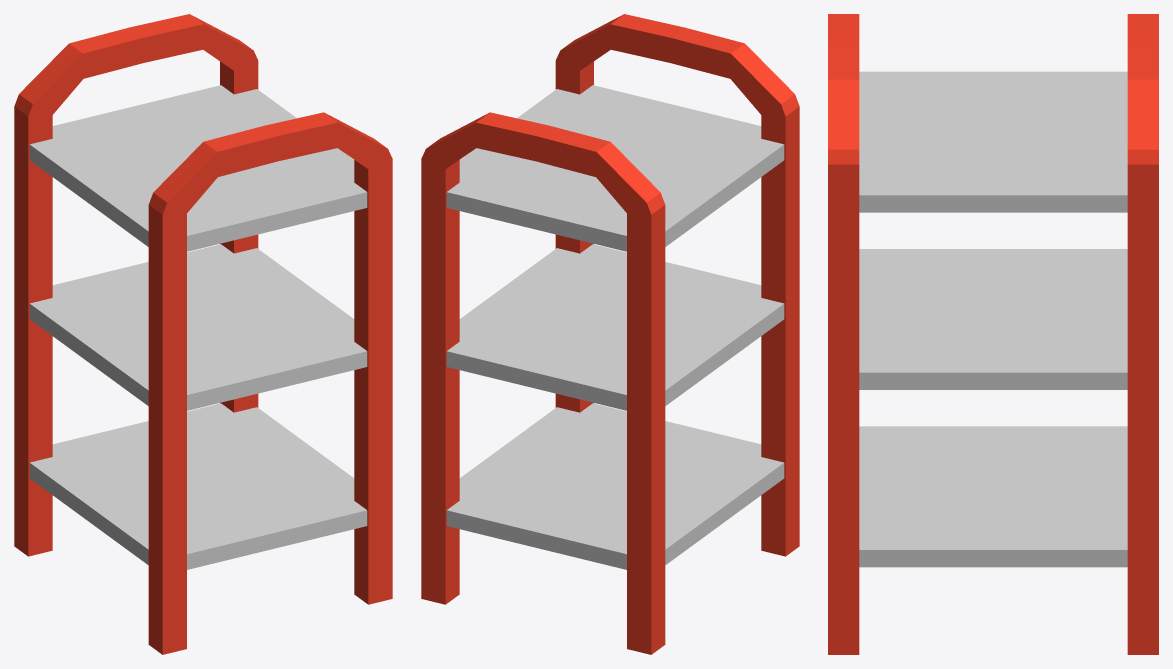
Rendered from Small_Shelf.fbx.
3 renders of one model, left to right at view 1: azimuth 30°, elevation 25°; view 2: azimuth 150°, elevation 25°; view 3: azimuth 270°, elevation 25°, orthographic. The views are drawn at different scales.
Parts seen in each view (by area): view 1: Cube, Cube.002; view 2: Cube, Cube.002; view 3: Cube, Cube.002.
Part boxes in pixels (x1,y1,x2,y2): Cube: (29,85,367,569); Cube.002: (14,14,392,654); Cube: (446,85,784,569); Cube.002: (421,14,799,654); Cube: (859,71,1127,567); Cube.002: (828,14,1158,654).
Bounding box in the file's own units: 90.81 × 185 × 101.
